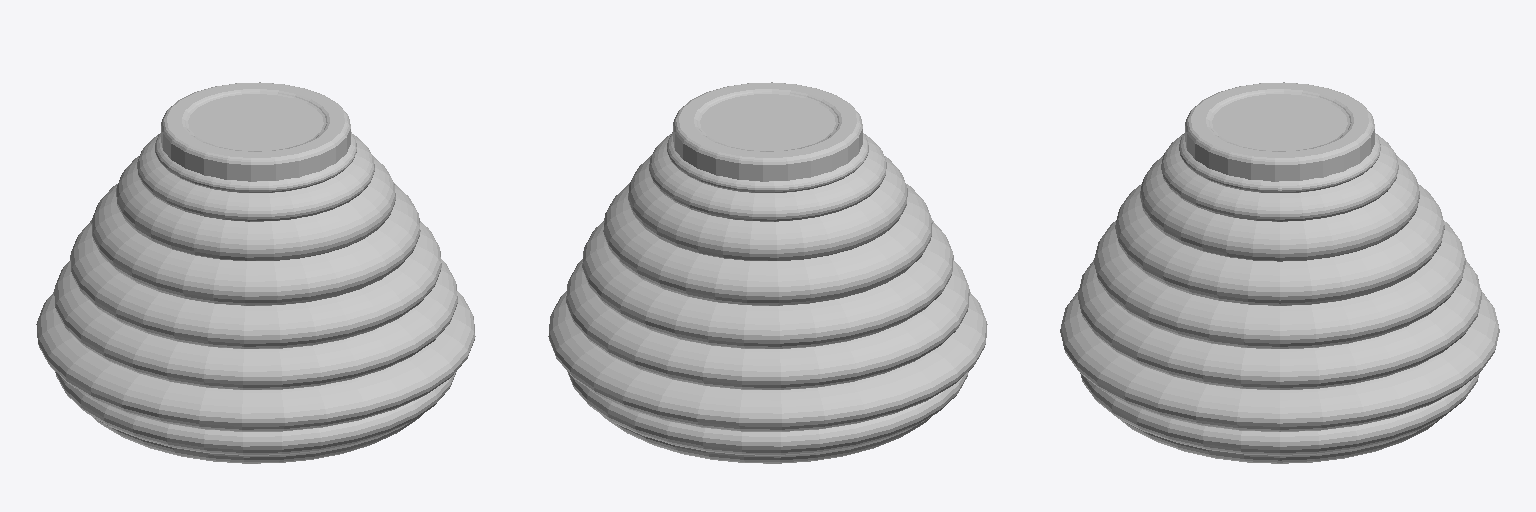
File: honeyjar2.obj
3 views of the same model, side by side, from view 1: azimuth 30°, elevation 25°; view 2: azimuth 150°, elevation 25°; view 3: azimuth 270°, elevation 25° (orthographic).
Visible parts, largest first — view 1: Figure 1; view 2: Figure 1; view 3: Figure 1.
Part boxes in pixels (x1,y1,x2,y2): Figure 1: (36, 82, 475, 463); Figure 1: (548, 82, 987, 463); Figure 1: (1060, 82, 1499, 463).
Bounding box in the file's own units: 4.77 × 3.25 × 4.77.